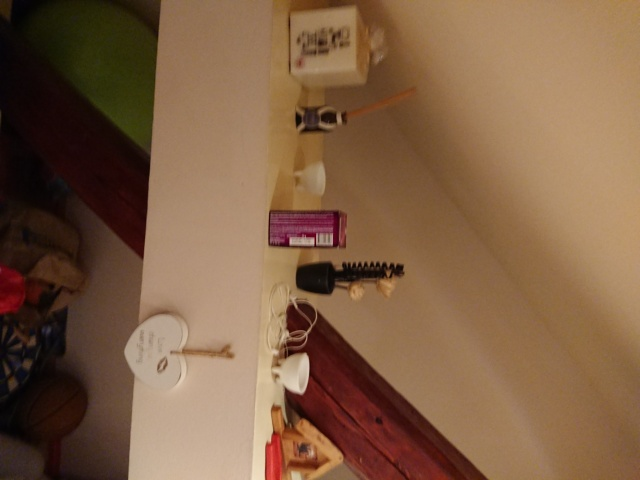Franck Black Currant Tea 60g: (265, 207, 349, 252)
